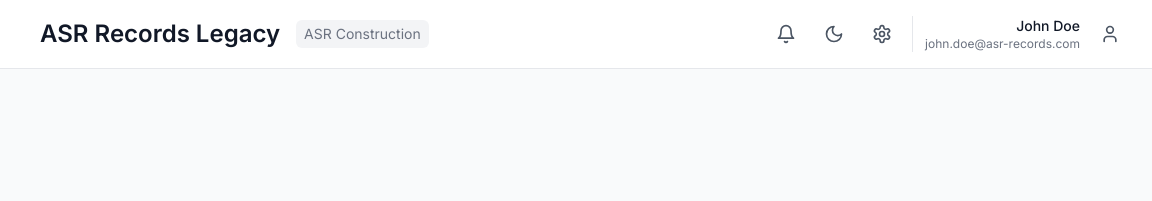
Test case: Header › closes notification dropdown on Escape key
Click the button named "notifications" at (786, 34), box [768,16,804,52]
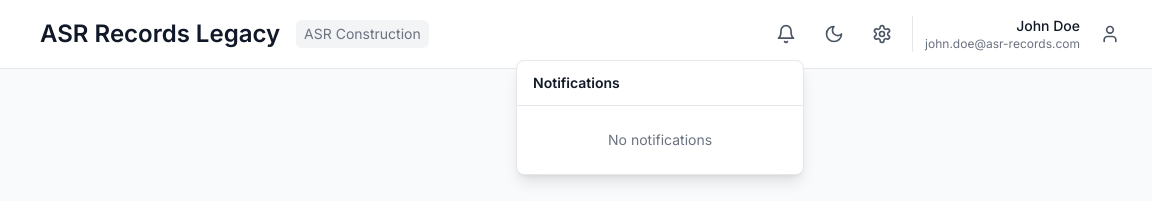
Result: the text "No notifications" is shown at [608,131,712,148]
Press Escape
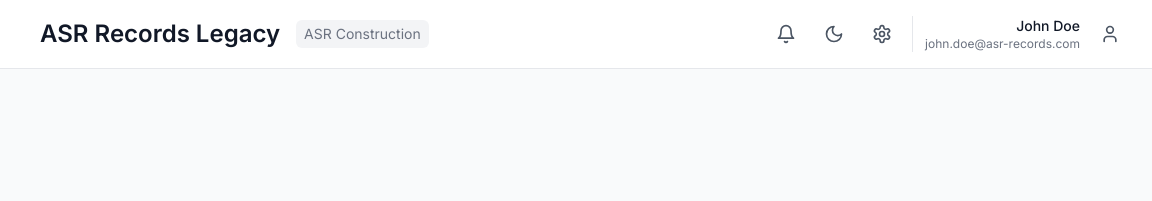
Result: the text "No notifications" is gone
